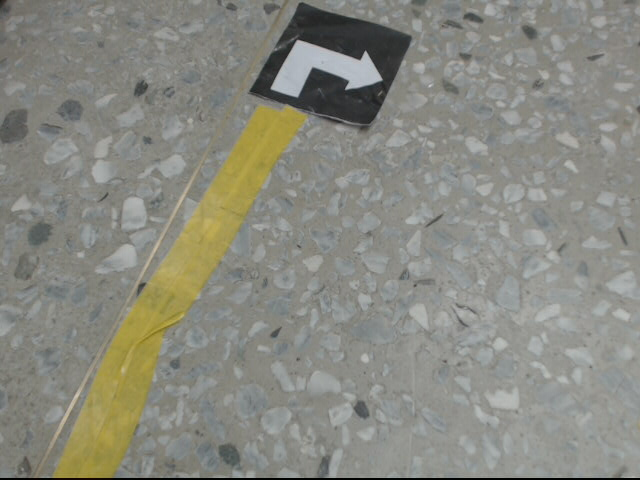right: (247, 3, 414, 128)
